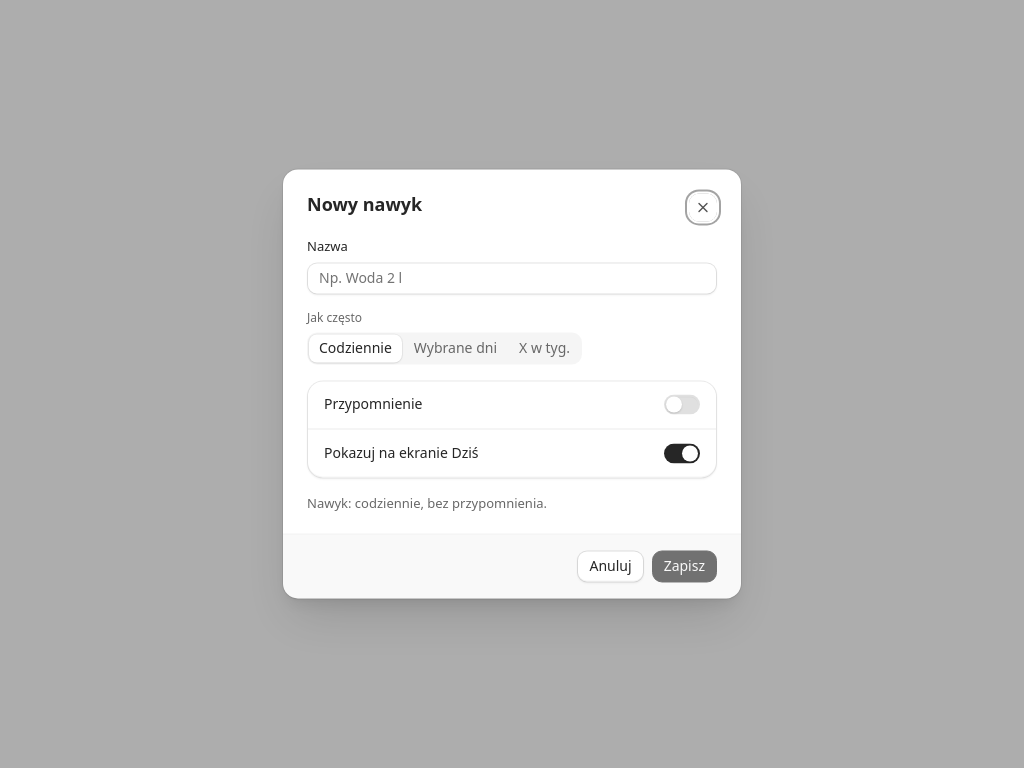
Test case: MHabitSheet › zegar 12 h w chipach i podsumowaniu
The width and height of the screenshot is (1024, 768).
What coordinates should you click on to do the following:
click the switch named "Przypomnienie"
I would click on:
 (682, 404)
Its box is [664,394,700,414].
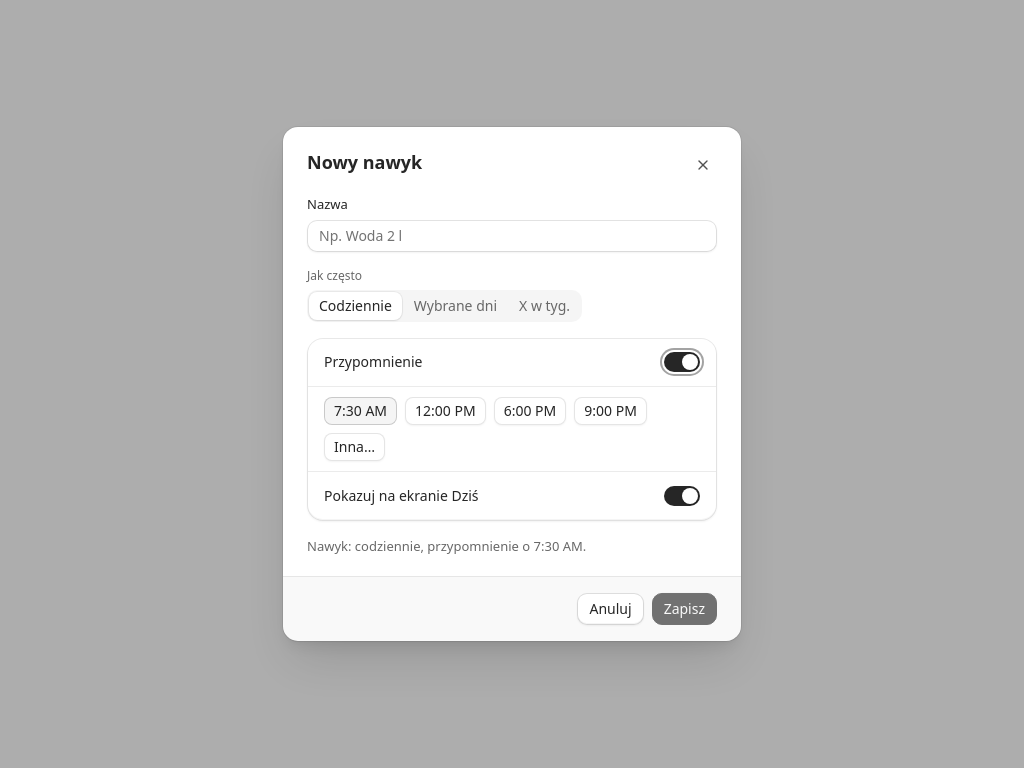
Expected: the button "7:30 AM" is shown, [324,396,397,424]
Expected: the text "Nawyk: codziennie, przypomnienie o 7:30 AM." is shown, [307,536,586,554]
